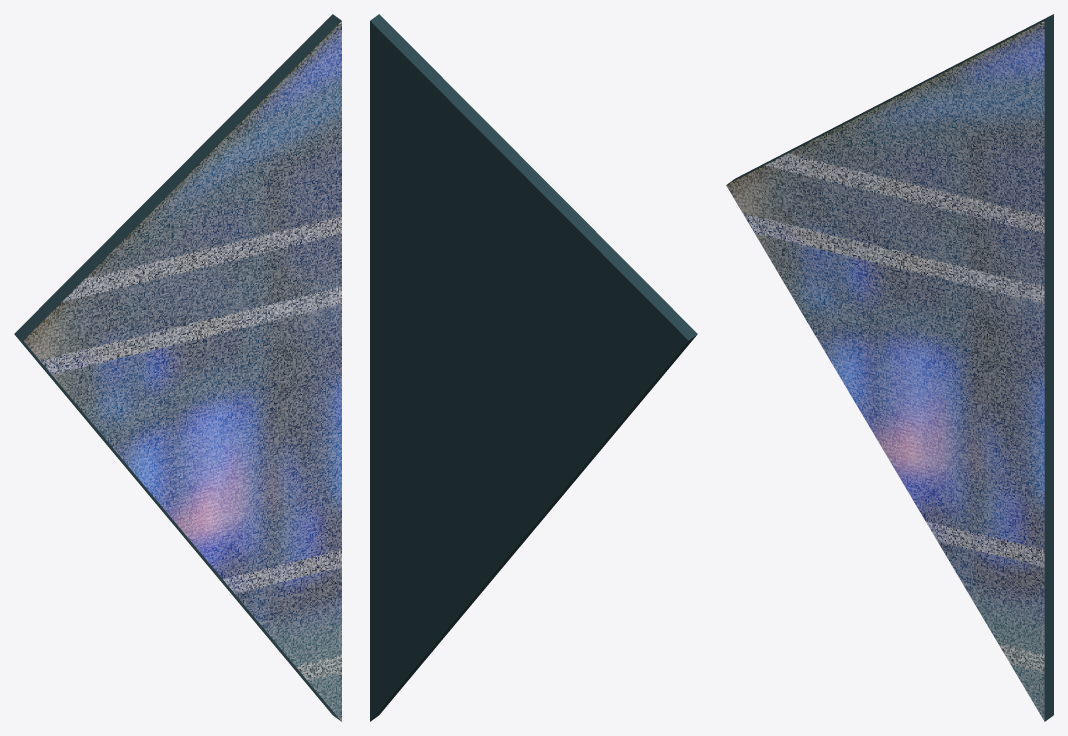
3 views of the same model, side by side, from view 1: azimuth 30°, elevation 25°; view 2: azimuth 150°, elevation 25°; view 3: azimuth 330°, elevation 25° (orthographic).
Parts seen in each view (by area): view 1: Piece_10; view 2: Piece_10; view 3: Piece_10.
Part boxes in pixels (<box>): Piece_10: <box>14,14,341,721</box>; Piece_10: <box>370,14,697,721</box>; Piece_10: <box>726,14,1053,721</box>.
Bounding box in the file's own units: 0.5 × 1.05 × 0.025.
Materials: 2 (1 with a texture image).
